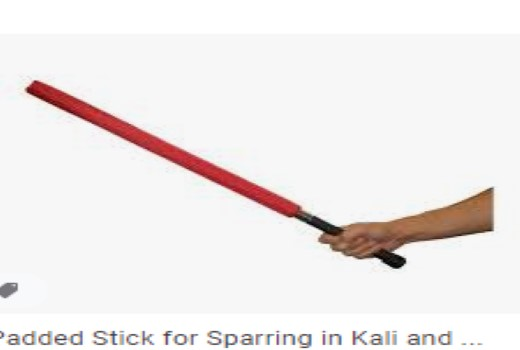baston_e: (44, 77, 383, 271)
baston_v: (377, 242, 405, 276), (16, 69, 40, 102)
